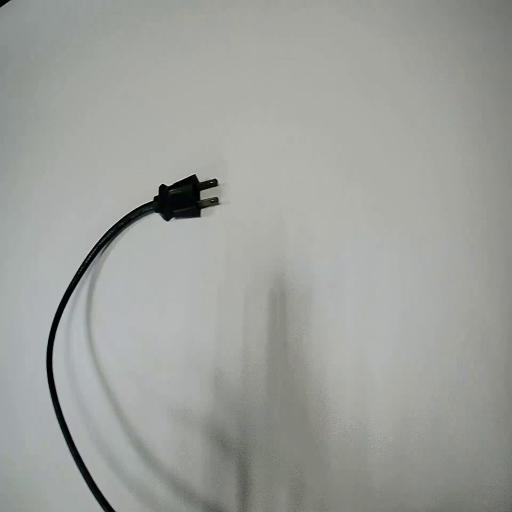wire: (47, 176, 217, 511)
